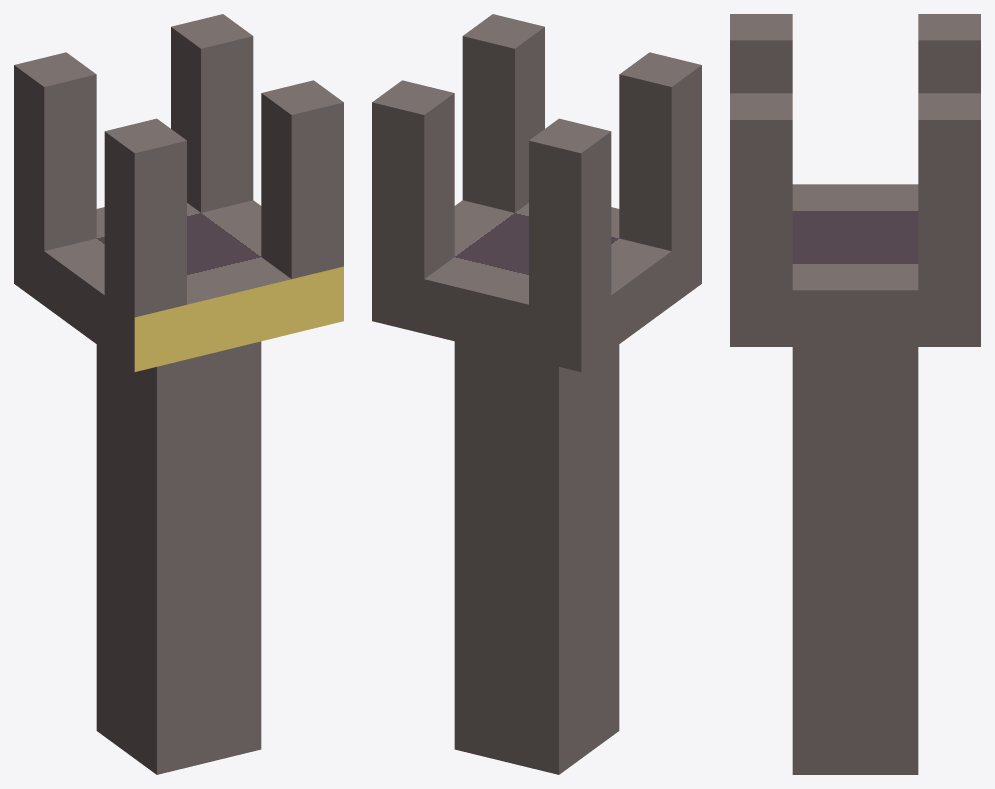
Rendered from ER_Torch.fbx.
3 renders of one model, left to right at view 1: azimuth 30°, elevation 25°; view 2: azimuth 150°, elevation 25°; view 3: azimuth 270°, elevation 25°, orthographic. The views are drawn at different scales.
Parts seen in each view (by area): view 1: Torch; view 2: Torch; view 3: Torch.
Boxes of the visible parts, bbox=[...] form: Torch: bbox=[14, 14, 343, 774]; Torch: bbox=[372, 14, 701, 774]; Torch: bbox=[730, 14, 980, 774].
Bounding box in the file's own units: 25 × 75 × 25.
Materials: 1 (1 with a texture image).
